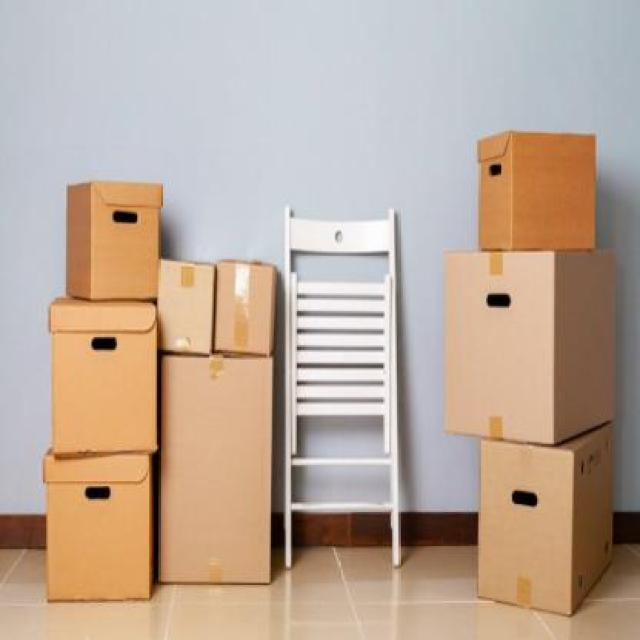box: (436, 251, 618, 439), (162, 362, 284, 621), (462, 446, 624, 628), (32, 292, 171, 447), (32, 445, 156, 611), (470, 118, 604, 253), (53, 149, 159, 314), (217, 254, 277, 354), (158, 252, 212, 354)
